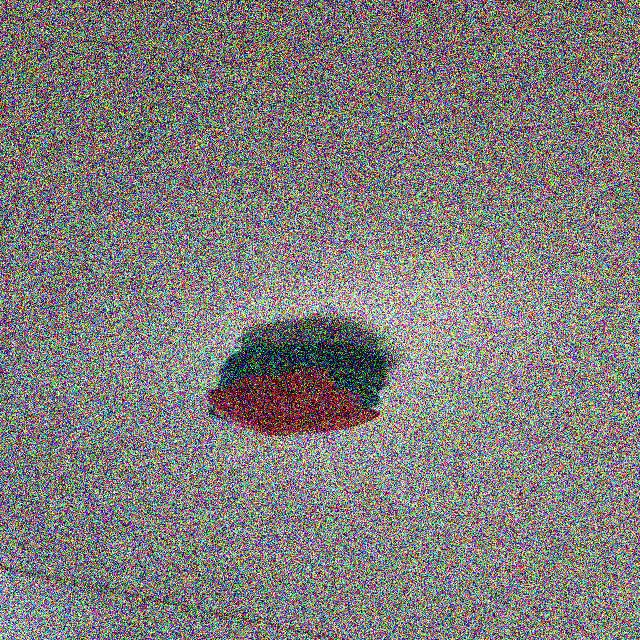House: (204, 335, 408, 442)
